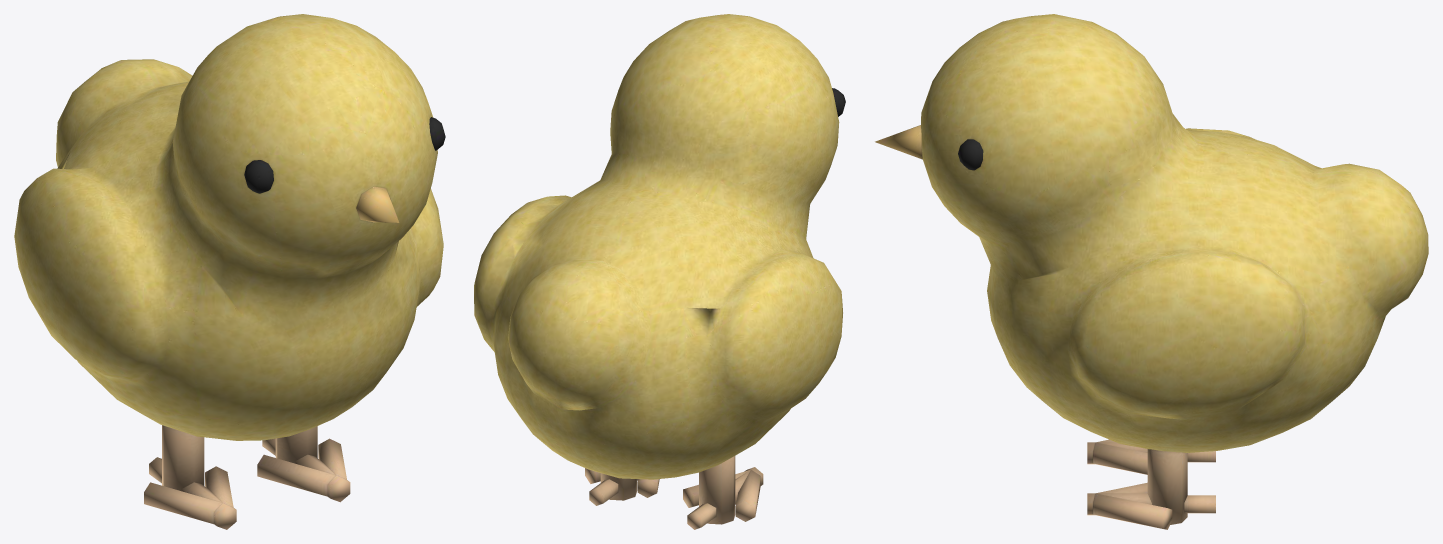
File: chick.glb
3 renders of one model, left to right at view 1: azimuth 30°, elevation 25°; view 2: azimuth 150°, elevation 25°; view 3: azimuth 270°, elevation 25°, orthographic. The views are drawn at different scales.
Visible parts, largest first — view 1: chick; view 2: chick; view 3: chick.
Part boxes in pixels (bbox=[...]): chick: bbox=[14, 14, 445, 529]; chick: bbox=[474, 14, 845, 529]; chick: bbox=[875, 14, 1428, 529].
Bounding box in the file's own units: 0.0958 × 0.128 × 0.1379.
1 material, 1 textured.
